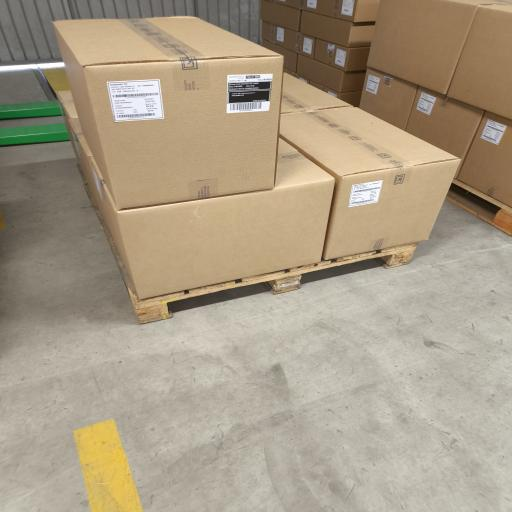pallet: (79, 166, 417, 323), (447, 180, 511, 235), (0, 124, 69, 145), (0, 101, 62, 119)
